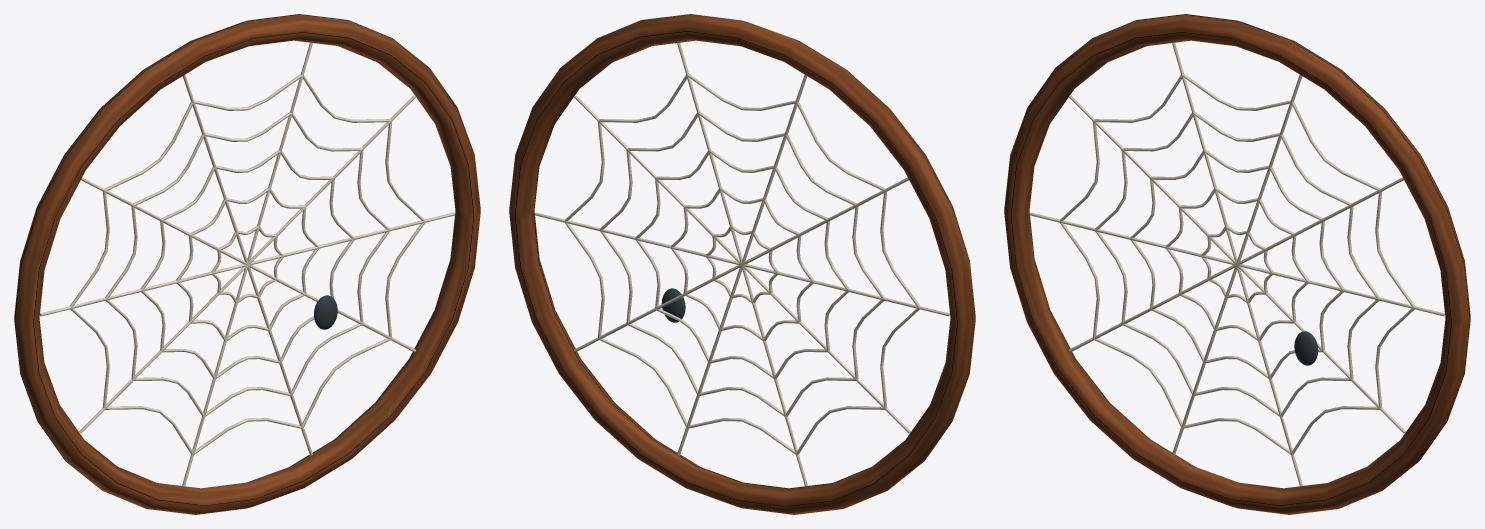
The model's file is hollowwick-halloween-round-cobweb-frame-ccc024b1__21646.glb.
3 views of the same model, side by side, from view 1: azimuth 30°, elevation 25°; view 2: azimuth 150°, elevation 25°; view 3: azimuth 330°, elevation 25° (orthographic).
Visible parts, largest first — view 1: round-cobweb-frame; view 2: round-cobweb-frame; view 3: round-cobweb-frame.
Part boxes in pixels (<box>): round-cobweb-frame: <box>14,14,480,514</box>; round-cobweb-frame: <box>509,14,975,514</box>; round-cobweb-frame: <box>1004,14,1470,514</box>.
Bounding box in the file's own units: 1.01 × 1.01 × 0.0539.
3 materials, 2 textured.
